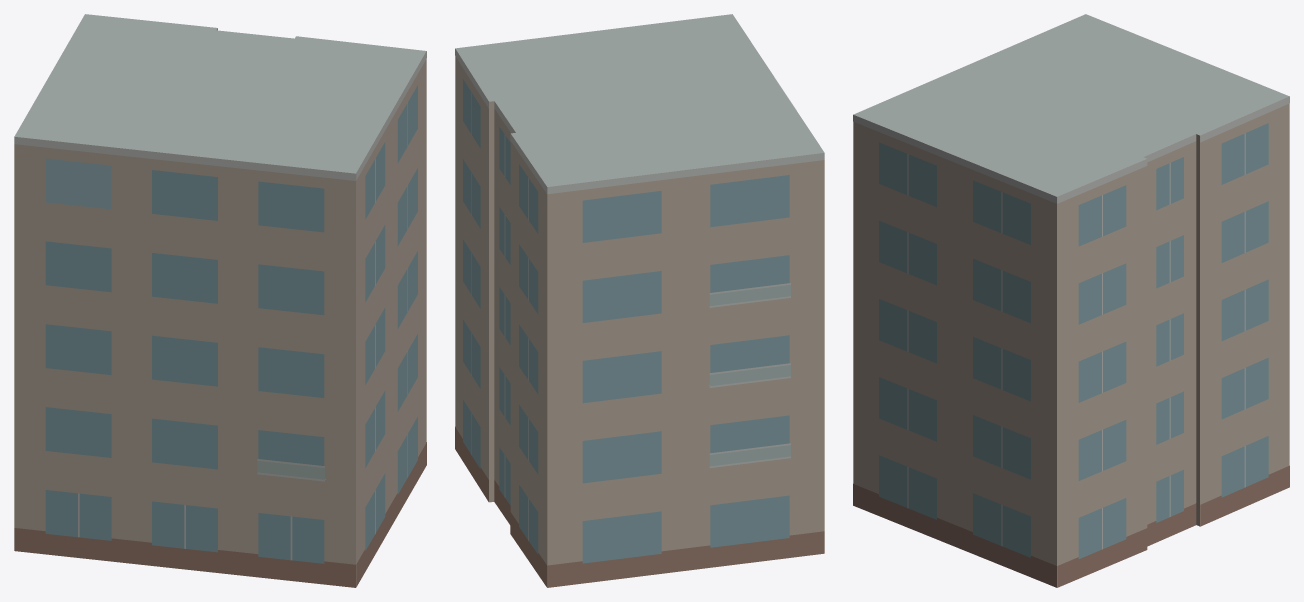
The model's file is survey-upis-32755658.glb.
3 renders of one model, left to right at view 1: azimuth 30°, elevation 25°; view 2: azimuth 150°, elevation 25°; view 3: azimuth 270°, elevation 25°, orthographic. The views are drawn at different scales.
Parts seen in each view (by area): view 1: survey-upis-32755658.tmp; view 2: survey-upis-32755658.tmp; view 3: survey-upis-32755658.tmp.
Part boxes in pixels (<box>): survey-upis-32755658.tmp: <box>14,14,426,587</box>; survey-upis-32755658.tmp: <box>455,14,824,587</box>; survey-upis-32755658.tmp: <box>853,14,1289,587</box>.
Size of the model in its own units: 13.75 by 13.7 by 13.87.
